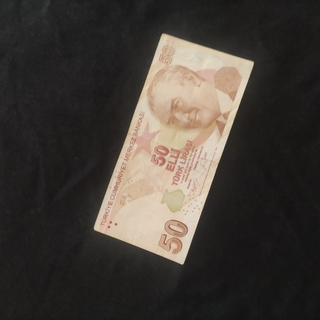50TLFront: (93, 33, 254, 263)
